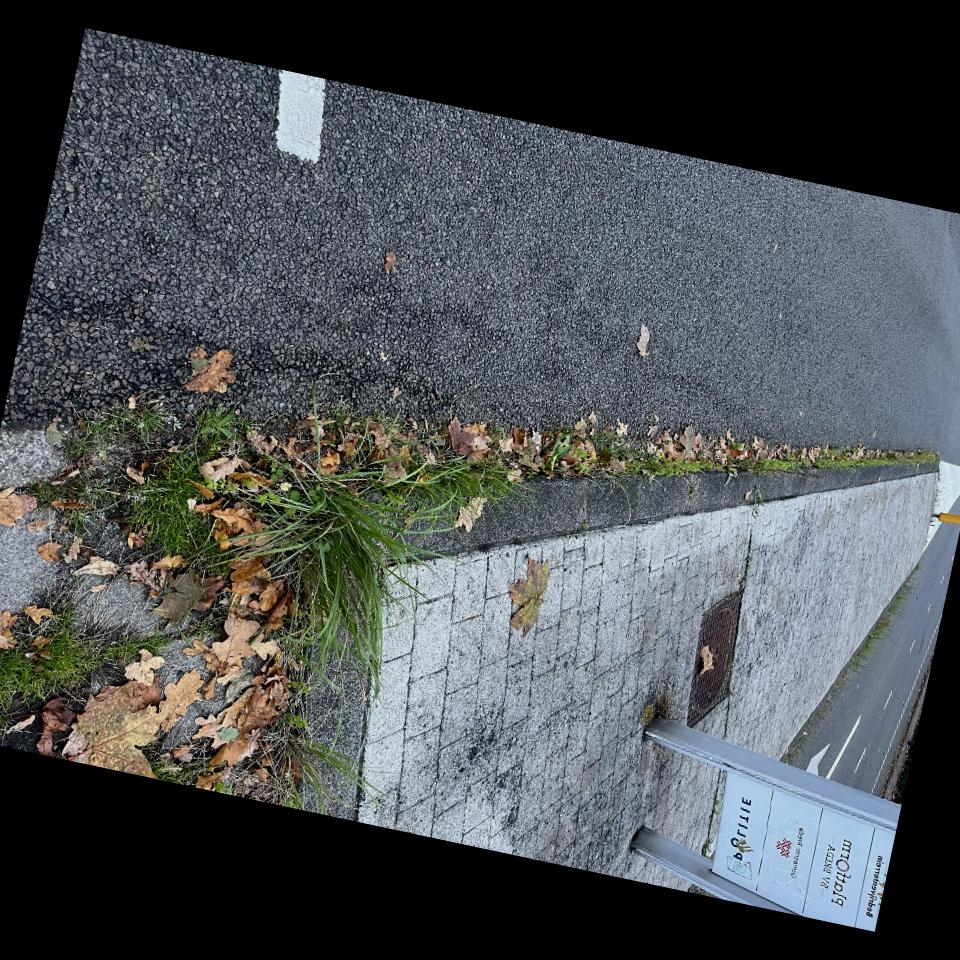weed: (514, 576, 780, 885), (555, 639, 780, 851), (819, 723, 908, 839), (548, 382, 569, 460), (546, 191, 561, 290), (553, 336, 564, 354), (546, 168, 555, 181)
